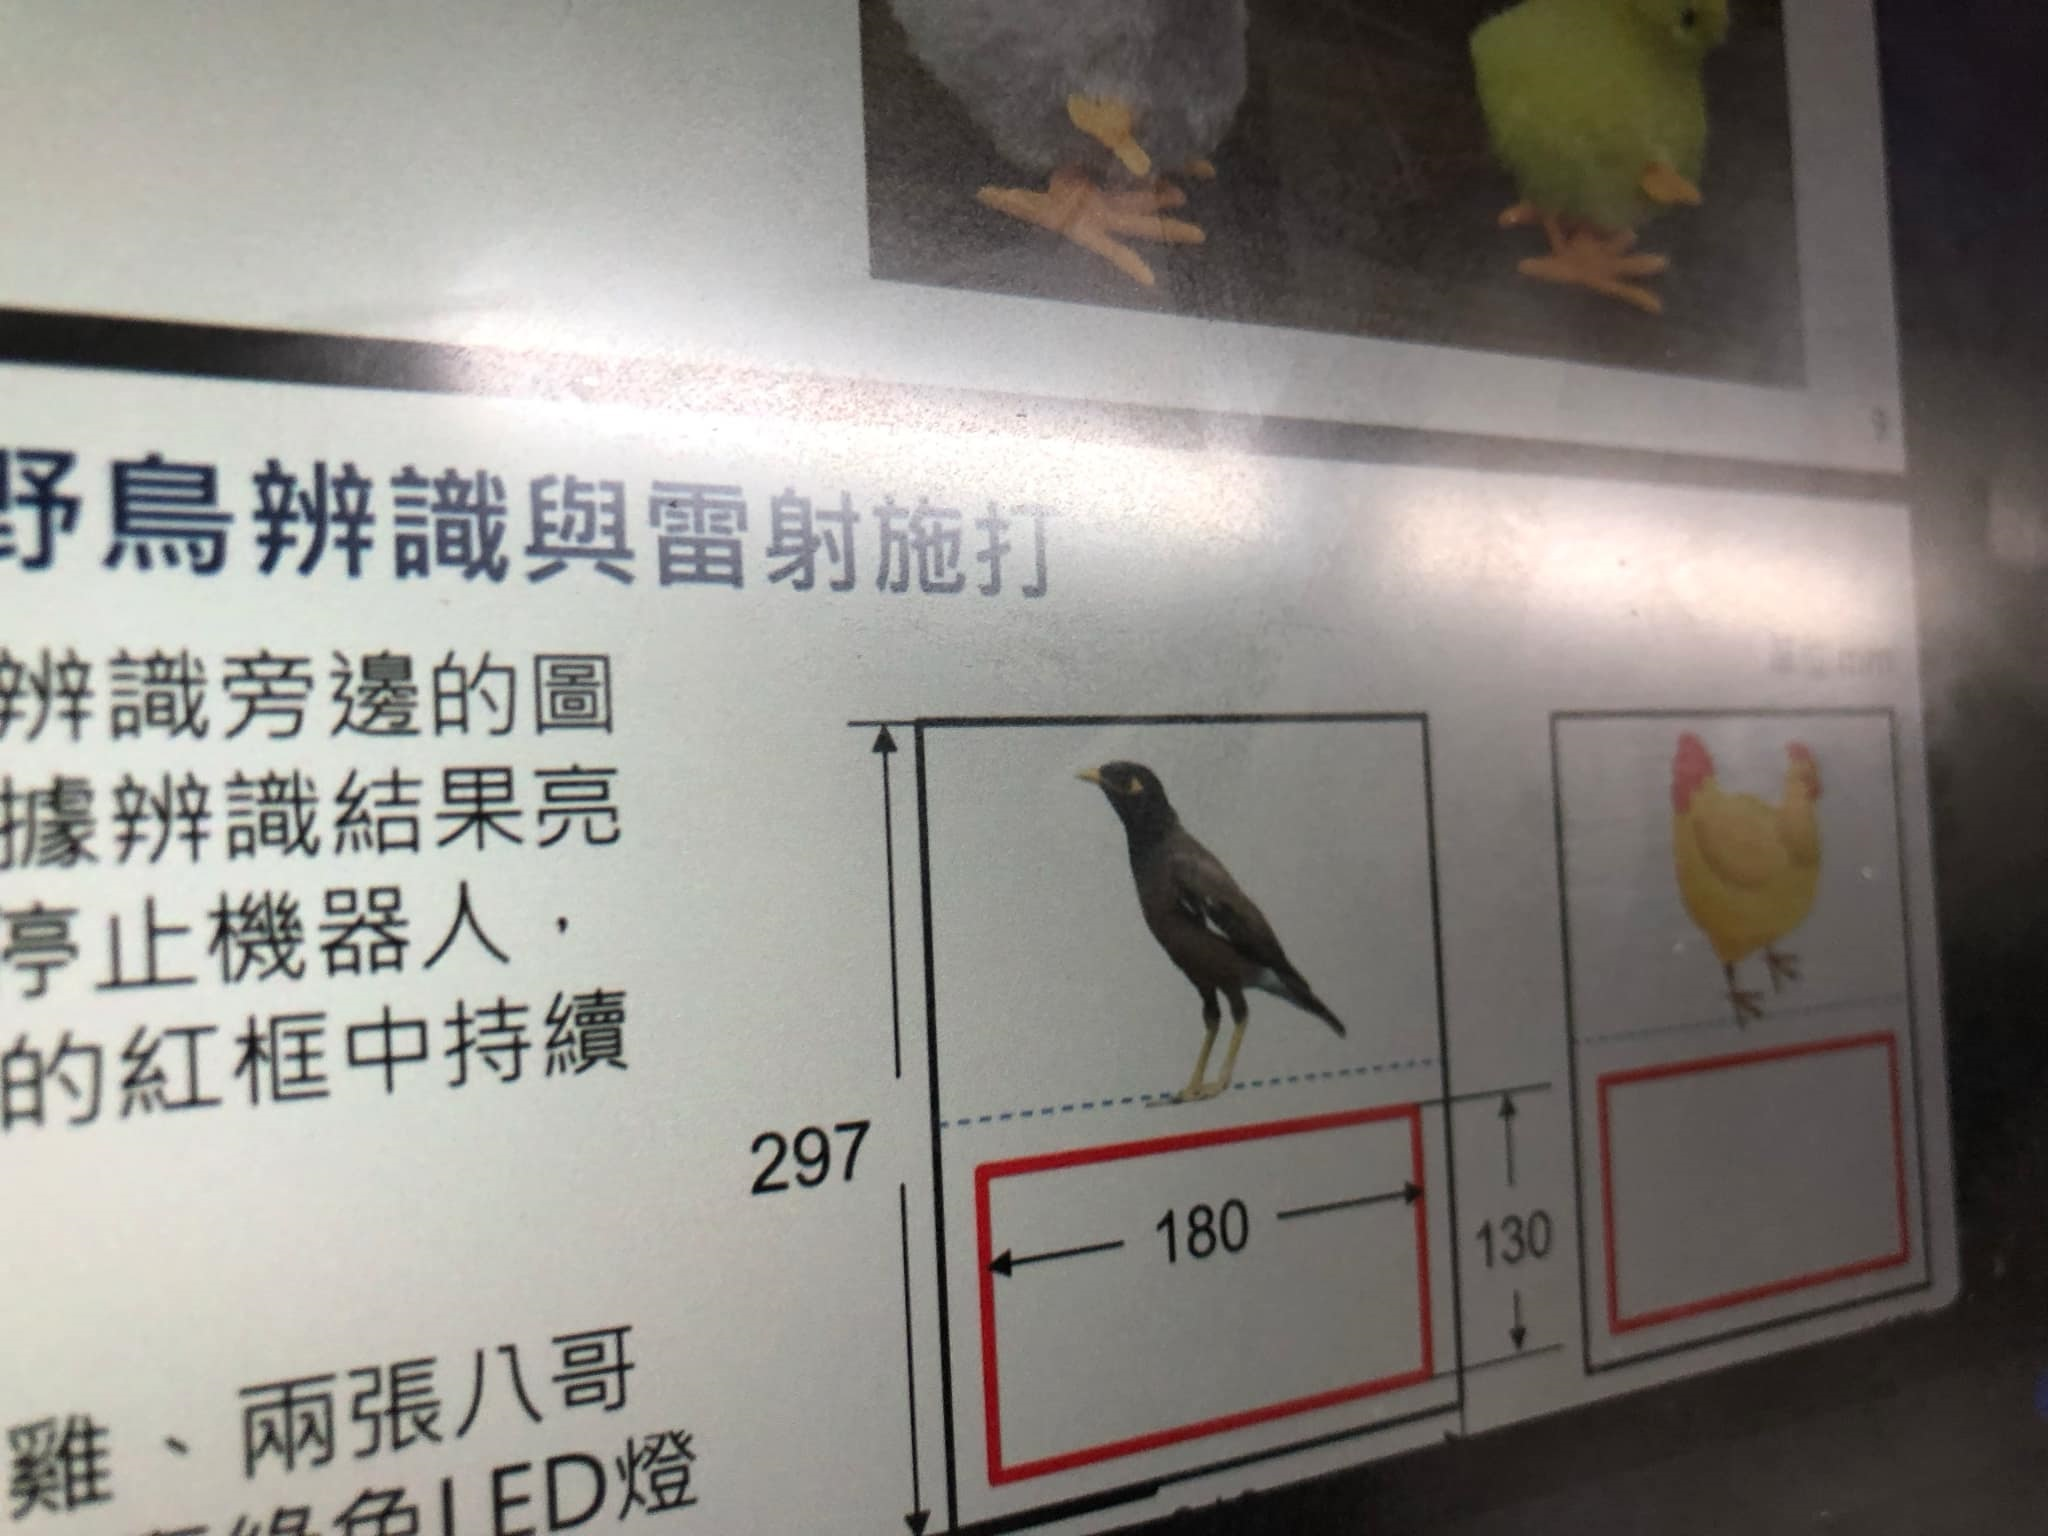chicken: (1629, 729, 1879, 1016)
starling: (1048, 757, 1426, 1121)
